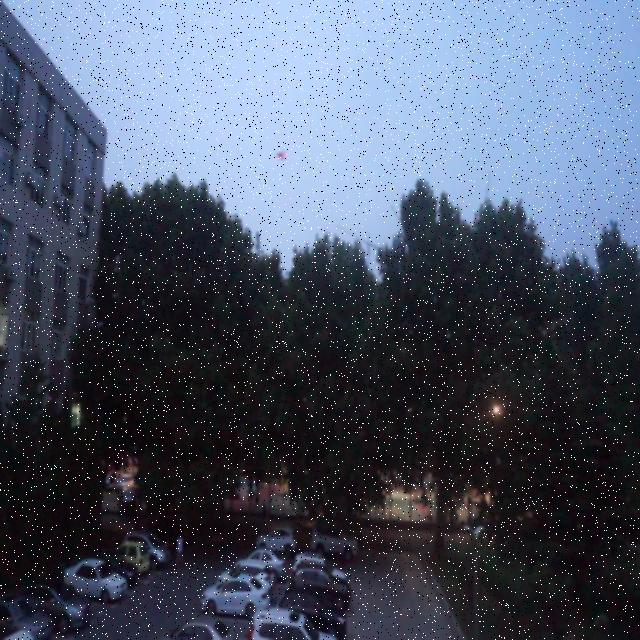UAV: (275, 152, 288, 161)
